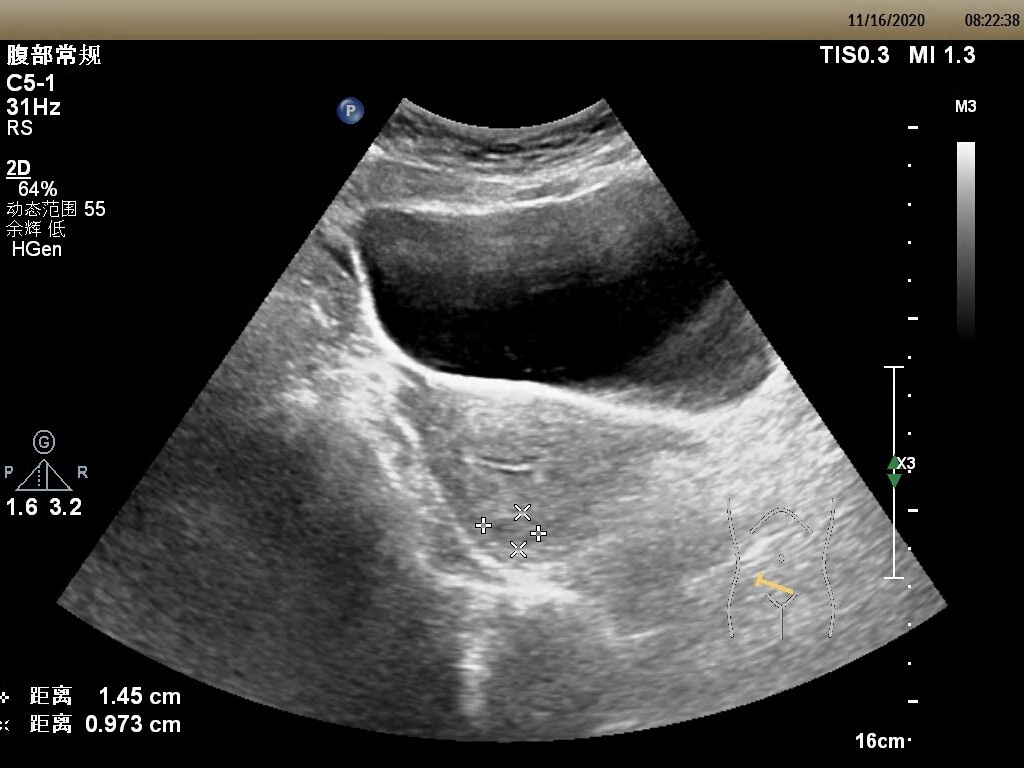肌瘤: (485, 516, 539, 550)
